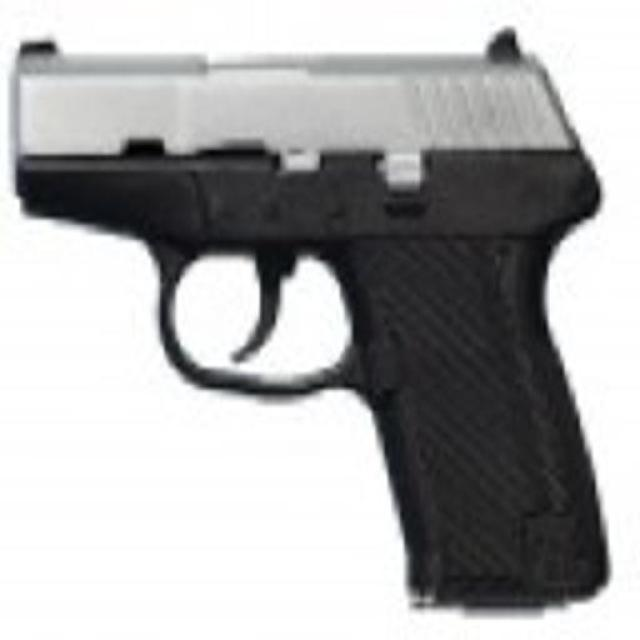pistol: (15, 26, 607, 602)
